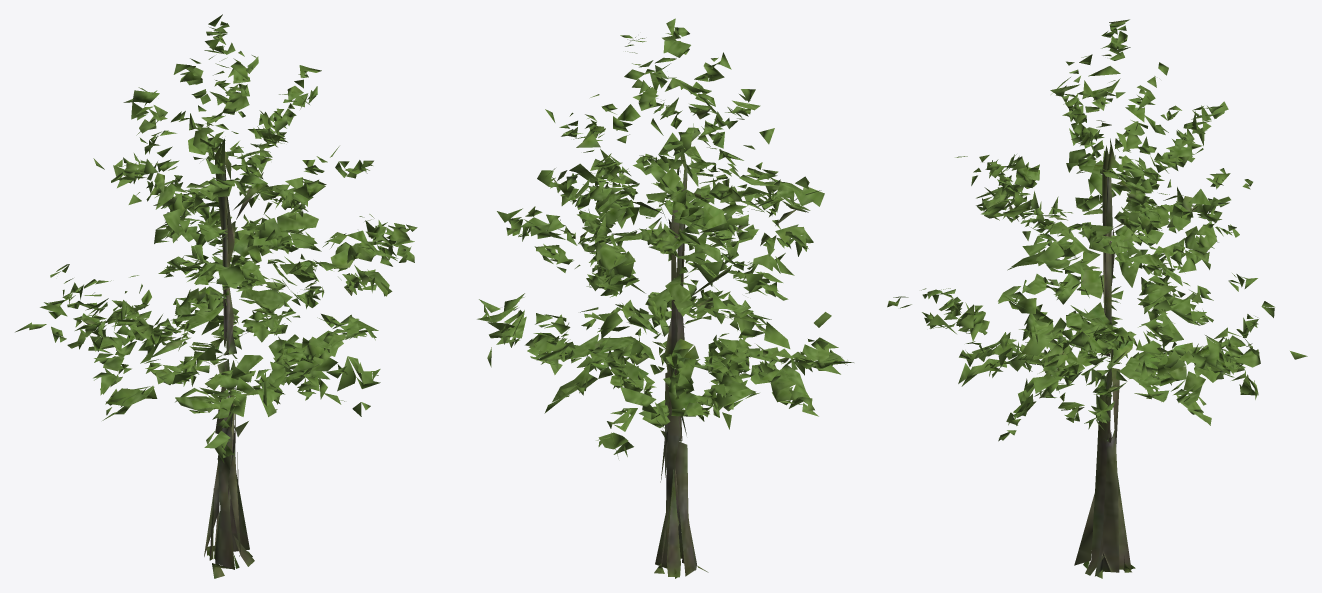
The model's file is carvalho_aster_broto.glb.
The picture shows the model from 3 angles, left to right: view 1: azimuth 30°, elevation 25°; view 2: azimuth 150°, elevation 25°; view 3: azimuth 270°, elevation 25°; orthographic projection. The views are drawn at different scales.
Visible parts, largest first — view 1: geometry_0; view 2: geometry_0; view 3: geometry_0.
Boxes of the visible parts, left/top/right/bottom form: geometry_0: left=15, top=14, right=417, bottom=578; geometry_0: left=477, top=18, right=853, bottom=578; geometry_0: left=887, top=19, right=1307, bottom=578.
Size of the model in its own units: 0.7068 by 1.01 by 0.6835.
Materials: 1 (1 with a texture image).
